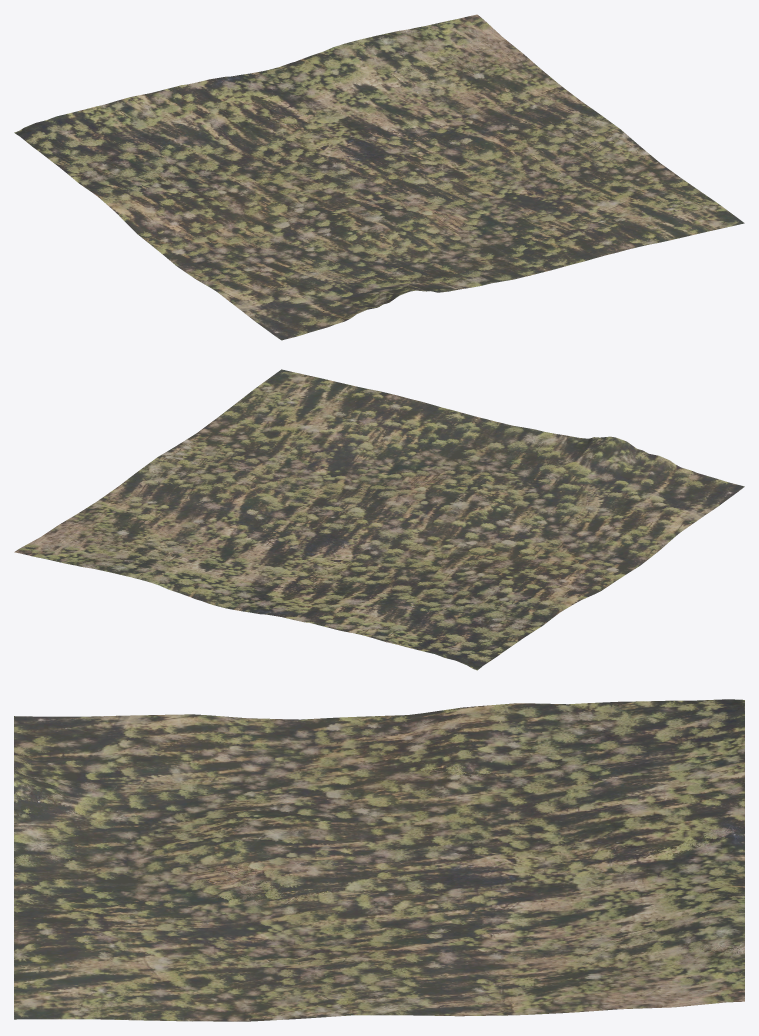
The model's file is CM_Terrain_24492916_6813855.fbx.
3 renders of one model, top to bottom at view 1: azimuth 30°, elevation 25°; view 2: azimuth 150°, elevation 25°; view 3: azimuth 270°, elevation 25°, orthographic. The views are drawn at different scales.
Visible parts, largest first — view 1: CM_Terrain_24492916_6813855_LOD0; view 2: CM_Terrain_24492916_6813855_LOD0; view 3: CM_Terrain_24492916_6813855_LOD0.
Boxes of the visible parts, x1=… form: CM_Terrain_24492916_6813855_LOD0: x1=14, y1=14, x2=744, y2=340; CM_Terrain_24492916_6813855_LOD0: x1=14, y1=369, x2=744, y2=670; CM_Terrain_24492916_6813855_LOD0: x1=14, y1=699, x2=744, y2=1021.
Size of what is drawn, in the model's own units: 205 by 9.76 by 205.
